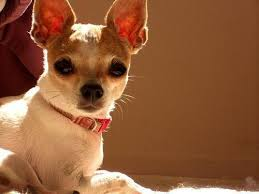chihuahua: (4, 1, 154, 194)
